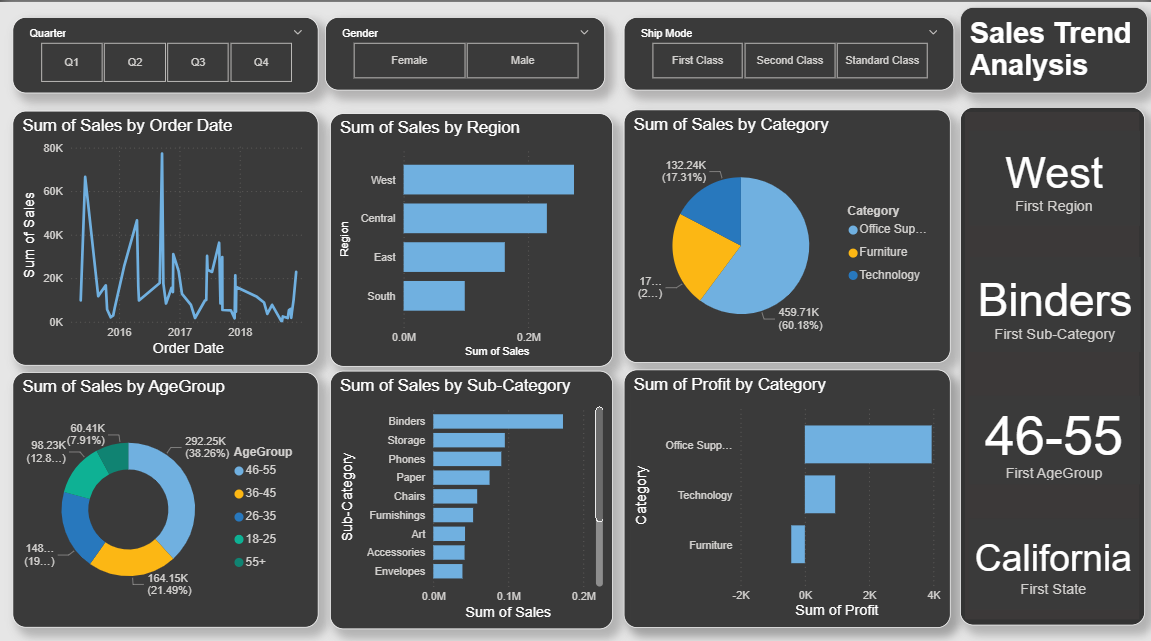

This screenshot's page, from the dashboard's own definition file:
{"tool":"powerbi","page":{"name":"Page 1","canvas":[1280,720],"ordinal":0},"visuals":[{"type":"lineChart","fields":{"Category":["sales data.Order Date"],"Y":["Sum(sales data.Sales)"]},"box":[14.3,121.4,340,282.9],"z":0},{"type":"slicer","fields":{"Values":["sales data.Quarter"]},"box":[13.7,16.5,340.3,85.1],"z":1000},{"type":"clusteredBarChart","fields":{"Category":["sales data.Region"],"Y":["Sum(sales data.Sales)"]},"box":[367.1,124.3,314.3,281.4],"z":2000},{"type":"pieChart","fields":{"Category":["sales data.Category"],"Y":["Sum(sales data.Sales)"]},"box":[692.9,120,362.9,281.4],"z":3000},{"type":"donutChart","fields":{"Category":["sales data.AgeGroup"],"Y":["Sum(sales data.Sales)"]},"box":[14.3,411.4,340,284.3],"z":4000},{"type":"clusteredBarChart","fields":{"Category":["sales data.Category"],"Y":["Sum(sales data.Profit)"]},"box":[692.9,408.6,362.9,287.1],"z":5000},{"type":"slicer","fields":{"Values":["sales data.Gender"]},"box":[361.4,17.1,311.4,81.4],"z":6000},{"type":"shape","box":[1067.1,117.1,205.7,575.7],"z":7000},{"type":"slicer","fields":{"Values":["sales data.Ship Mode"]},"box":[692.9,17.1,367.1,81.4],"z":8000},{"type":"card","fields":{"Values":["Min(sales data.Region)"]},"box":[1075.7,142.9,190,105.7],"z":9000},{"type":"card","fields":{"Values":["Min(sales data.Sub-Category)"]},"box":[1077.2,282.7,189.4,105.7],"z":10000},{"type":"card","fields":{"Values":["Min(sales data.AgeGroup)"]},"box":[1075.7,437.1,190,98.6],"z":11000},{"type":"clusteredBarChart","fields":{"Category":["sales data.Sub-Category"],"Y":["Sum(sales data.Sales)"]},"box":[367.1,410,314.3,287.1],"z":12000},{"type":"card","fields":{"Values":["Min(sales data.State)"]},"box":[1075.7,574.3,188.6,101.4],"z":13000},{"type":"textbox","box":[1088.6,17.1,191.4,100],"z":14000},{"type":"textbox","box":[1067.1,5.7,208.6,95.7],"z":15000}]}

Visuals, with their boxes in screenshot pixels (x1, y1, x2, y2), scaled from the page's 1280x720 canvas onto the 1151x641 screenshot:
lineChart - sales data.Order Date x Sum(sales data.Sales): (13, 108, 319, 360)
slicer - sales data.Quarter: (12, 15, 318, 90)
clusteredBarChart - sales data.Region x Sum(sales data.Sales): (330, 111, 613, 361)
pieChart - sales data.Category x Sum(sales data.Sales): (623, 107, 949, 357)
donutChart - sales data.AgeGroup x Sum(sales data.Sales): (13, 366, 319, 619)
clusteredBarChart - sales data.Category x Sum(sales data.Profit): (623, 364, 949, 619)
slicer - sales data.Gender: (325, 15, 605, 88)
shape: (960, 104, 1145, 617)
slicer - sales data.Ship Mode: (623, 15, 953, 88)
card - Min(sales data.Region): (967, 127, 1138, 221)
card - Min(sales data.Sub-Category): (969, 252, 1139, 346)
card - Min(sales data.AgeGroup): (967, 389, 1138, 477)
clusteredBarChart - sales data.Sub-Category x Sum(sales data.Sales): (330, 365, 613, 621)
card - Min(sales data.State): (967, 511, 1137, 602)
textbox: (979, 15, 1150, 104)
textbox: (960, 5, 1147, 90)
